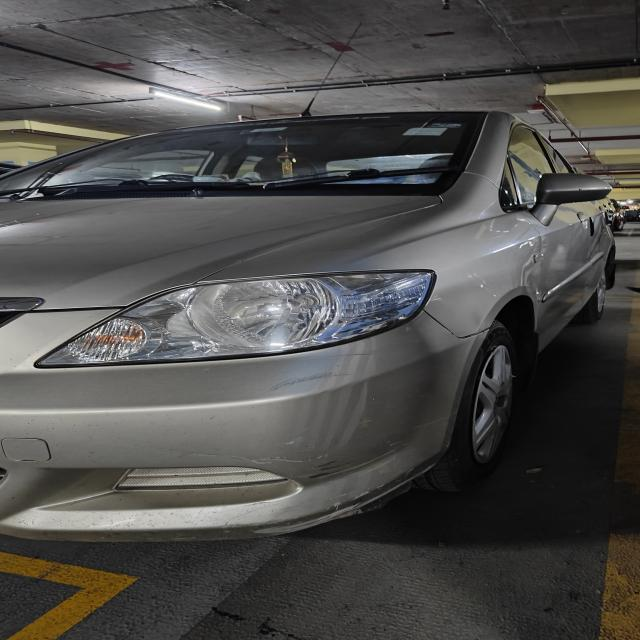scratch: (238, 438, 450, 538), (292, 405, 454, 483), (266, 365, 386, 395), (310, 346, 391, 362)
